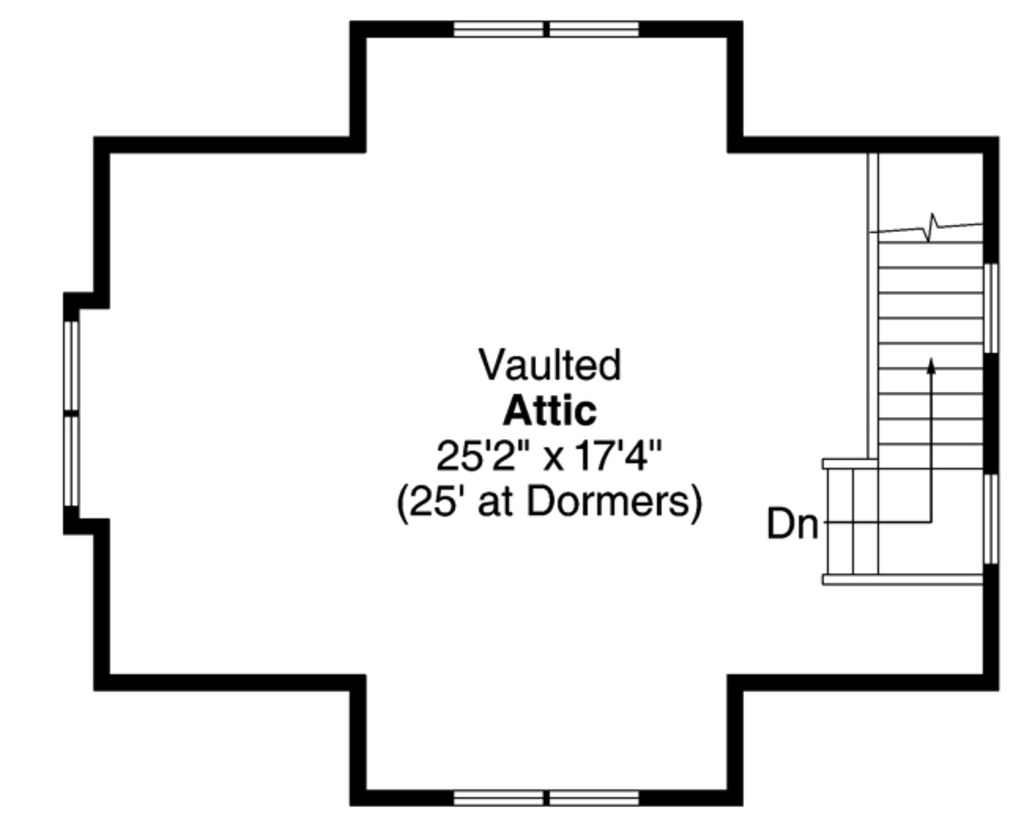stairs: (818, 144, 982, 608)
window: (550, 11, 641, 49), (449, 12, 550, 46), (544, 782, 641, 816), (449, 782, 547, 812), (979, 470, 1008, 563), (59, 320, 85, 414), (65, 416, 87, 504), (982, 263, 1003, 352)
